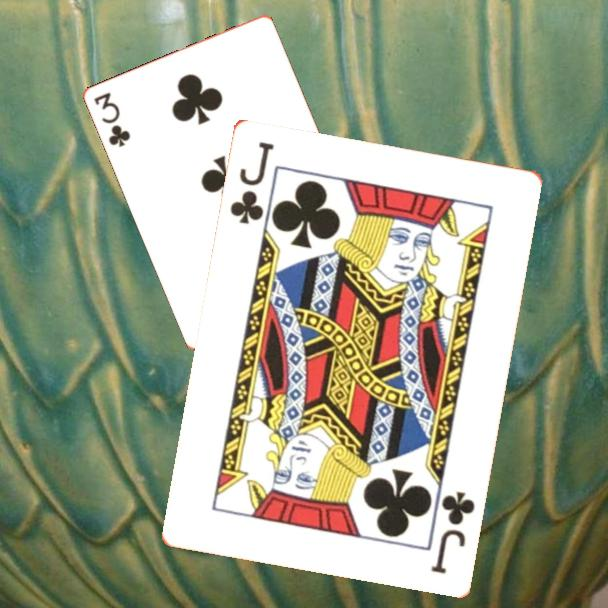c03: (91, 89, 134, 150)
c11: (426, 487, 478, 576), (226, 137, 276, 226)
